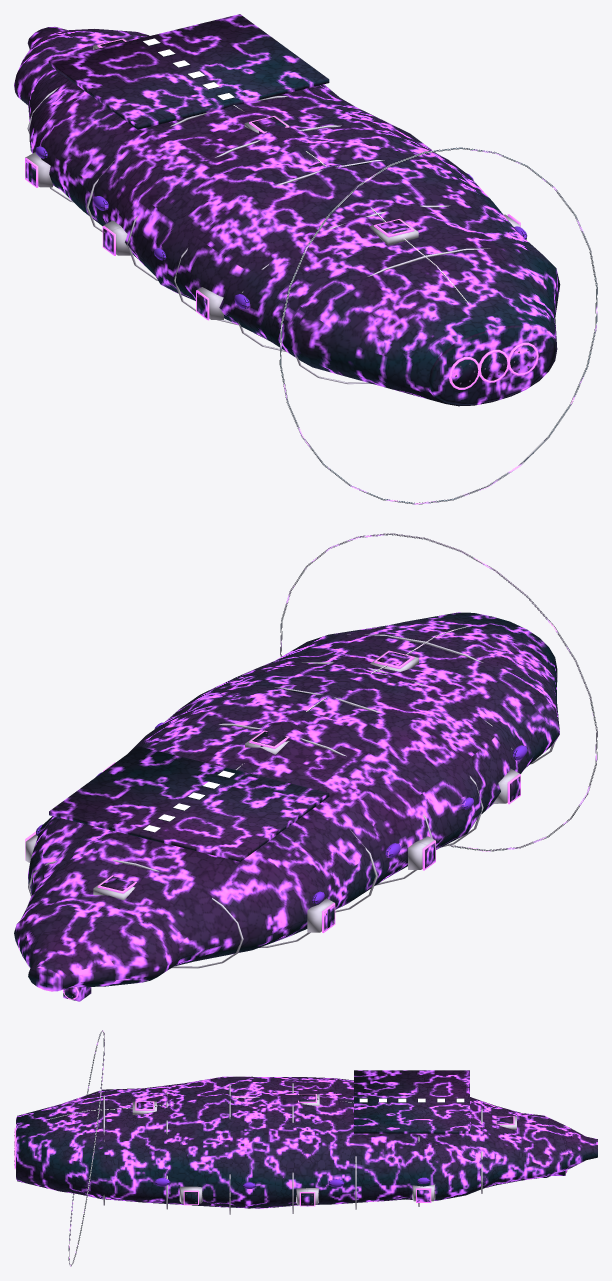
Rendered from casco_nave_nodriza_t5.fbx.
3 renders of one model, top to bottom at view 1: azimuth 30°, elevation 25°; view 2: azimuth 150°, elevation 25°; view 3: azimuth 270°, elevation 25°, orthographic. The views are drawn at different scales.
Visible parts, largest first — view 1: casco_nave_nodriza_t5, casco_nave_nodriza_t5_neon, casco_nave_nodriza_t5_cristal; view 2: casco_nave_nodriza_t5, casco_nave_nodriza_t5_neon, casco_nave_nodriza_t5_cristal; view 3: casco_nave_nodriza_t5, casco_nave_nodriza_t5_neon, casco_nave_nodriza_t5_cristal.
Boxes of the visible parts, x1,y1,x2,y2 form: casco_nave_nodriza_t5: (14,14,597,504); casco_nave_nodriza_t5_neon: (143,38,597,504); casco_nave_nodriza_t5_cristal: (35,146,527,308); casco_nave_nodriza_t5: (14,533,597,1001); casco_nave_nodriza_t5_neon: (143,533,597,851); casco_nave_nodriza_t5_cristal: (36,722,527,903); casco_nave_nodriza_t5: (14,1030,597,1266); casco_nave_nodriza_t5_neon: (48,1030,464,1266); casco_nave_nodriza_t5_cristal: (154,1177,430,1188).
Bounding box in the file's own units: 25.05 × 24.42 × 60.31.
